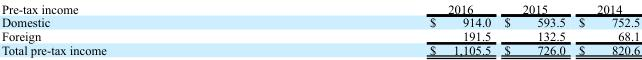table: (0, 1, 639, 56)
table column: (0, 1, 267, 56), (267, 1, 496, 56), (496, 1, 571, 56), (571, 1, 639, 56)
table column header: (0, 1, 639, 15)
table row: (0, 1, 639, 15), (0, 15, 639, 29), (0, 42, 639, 56), (0, 29, 639, 42)
